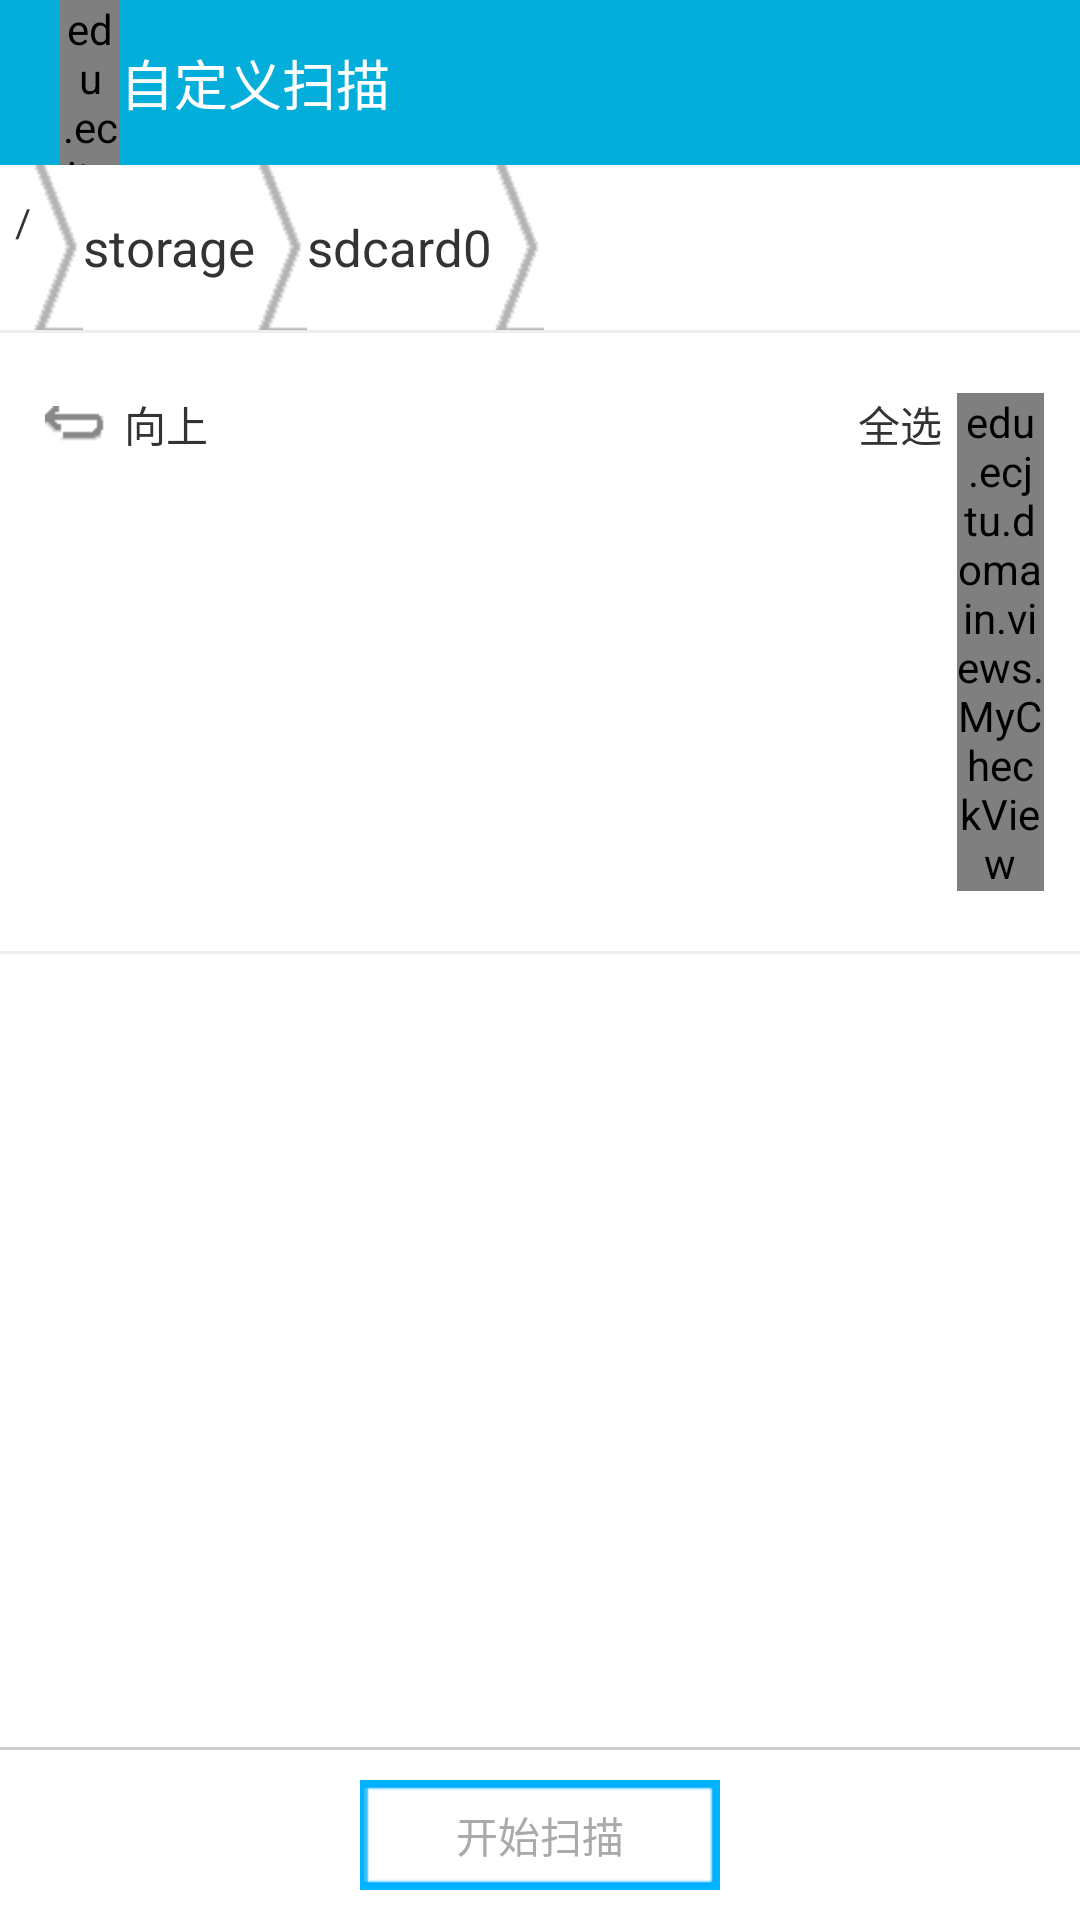

Where icons sit on this 1080x1920 app screen, as {"left": x1, "top": y1, "right": x2, "bottom": y2}:
file separator: {"left": 35, "top": 165, "right": 83, "bottom": 330}, {"left": 259, "top": 165, "right": 307, "bottom": 330}, {"left": 496, "top": 165, "right": 544, "bottom": 330}
